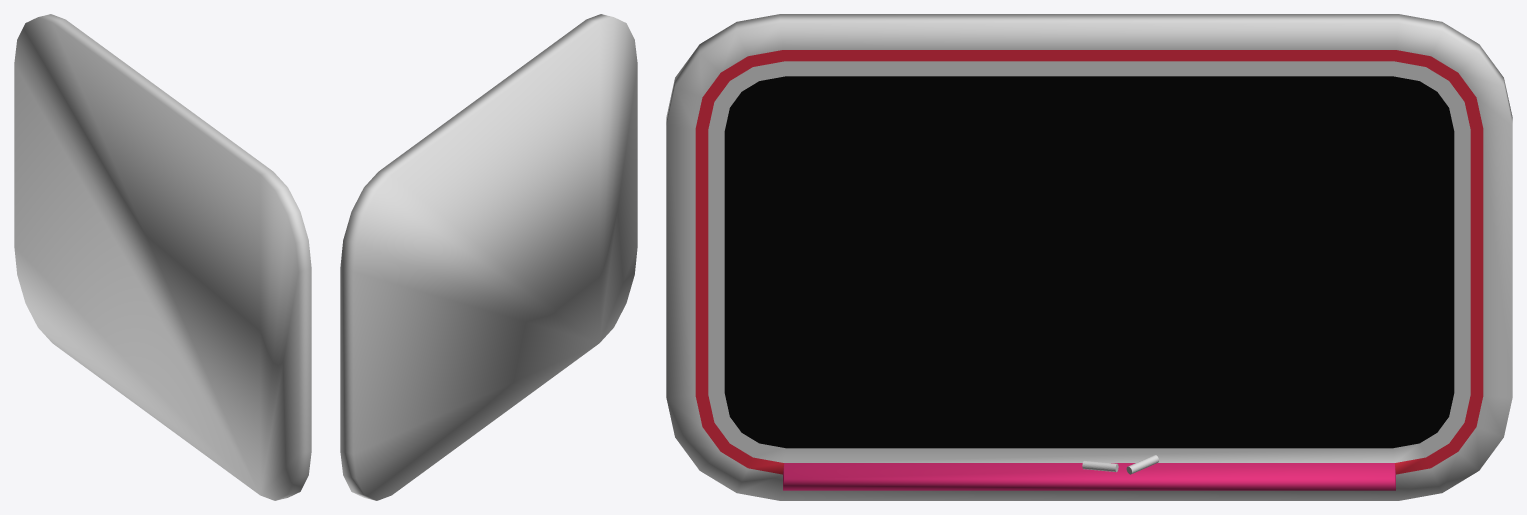
File: Tafel.fbx
3 renders of one model, left to right at view 1: azimuth 30°, elevation 25°; view 2: azimuth 150°, elevation 25°; view 3: azimuth 270°, elevation 25°, orthographic. The views are drawn at different scales.
Visible parts, largest first — view 1: Cube; view 2: Cube; view 3: Cube.
Boxes of the visible parts, left/top/right/bottom form: Cube: left=14, top=14, right=311, bottom=500; Cube: left=340, top=14, right=637, bottom=500; Cube: left=666, top=14, right=1512, bottom=500.
Size of the model in its own units: 26.89 by 235 by 377.
